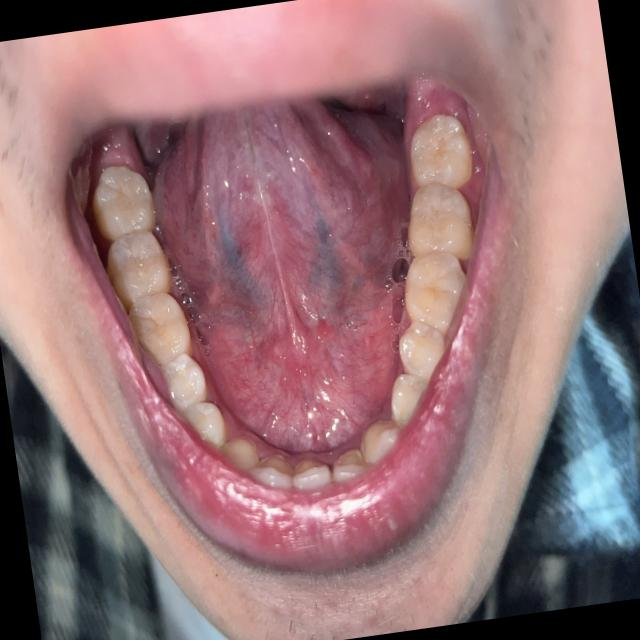tooth: (76, 146, 169, 246), (394, 176, 482, 274), (392, 237, 474, 340), (395, 106, 481, 201), (124, 280, 204, 377), (99, 222, 180, 310), (387, 308, 457, 386), (154, 344, 218, 417), (378, 363, 439, 435), (348, 403, 408, 475), (177, 382, 237, 453), (213, 415, 270, 486), (245, 436, 304, 503), (282, 440, 338, 500), (324, 440, 374, 491)
